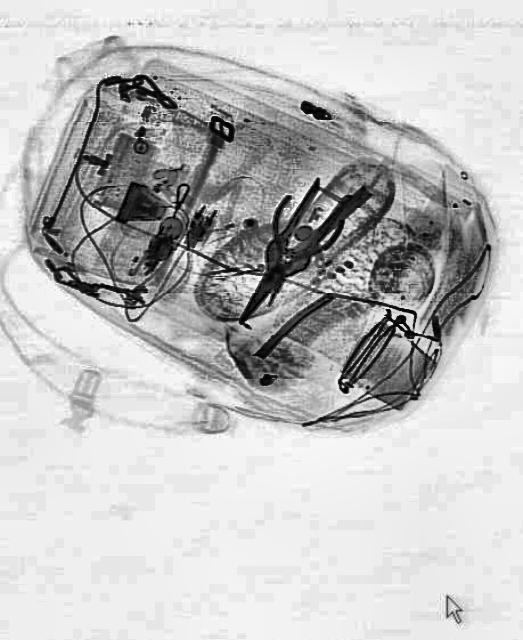Pliers: (233, 184, 345, 324)
